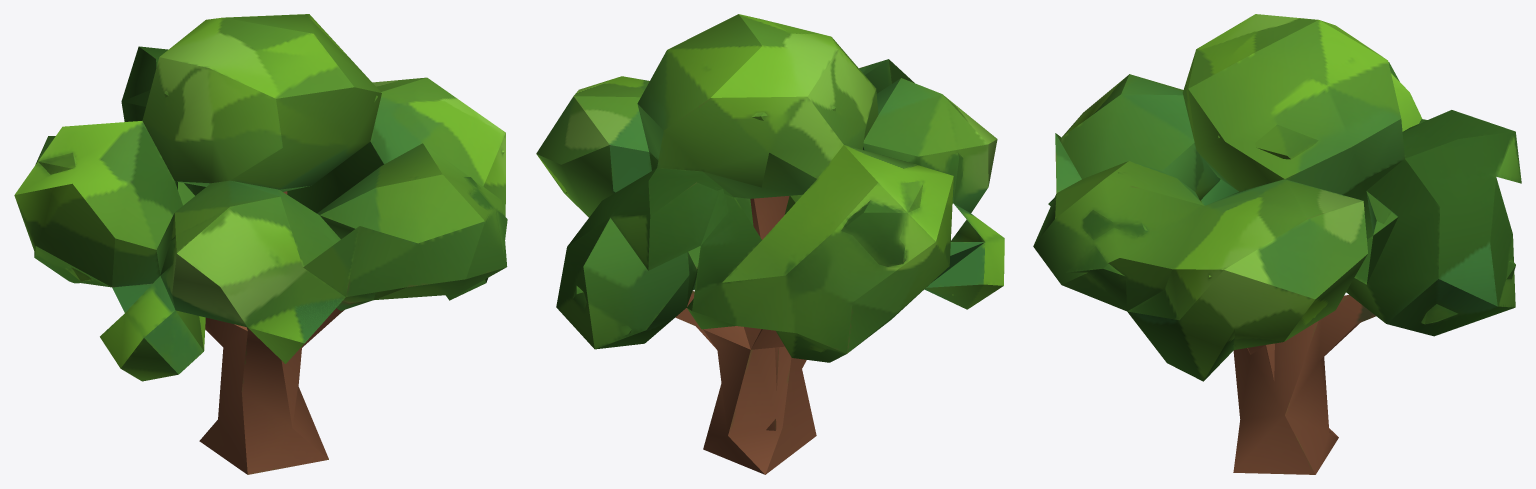
Rendered from ancient-oak.glb.
The picture shows the model from 3 angles, left to right: view 1: azimuth 30°, elevation 25°; view 2: azimuth 150°, elevation 25°; view 3: azimuth 270°, elevation 25°; orthographic projection. The views are drawn at different scales.
Parts seen in each view (by area): view 1: geometry_0; view 2: geometry_0; view 3: geometry_0.
Part boxes in pixels (x1=…): geometry_0: x1=14, y1=14, x2=507, y2=474; geometry_0: x1=536, y1=14, x2=1004, y2=474; geometry_0: x1=1033, y1=14, x2=1521, y2=474.
Bounding box in the file's own units: 1 × 0.9567 × 0.9971.
1 material, 1 textured.
